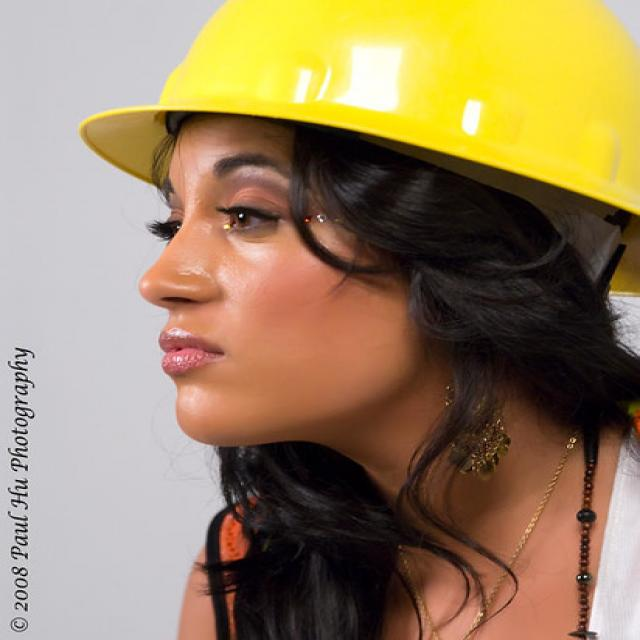Safety-Helmet: (82, 8, 640, 215)
